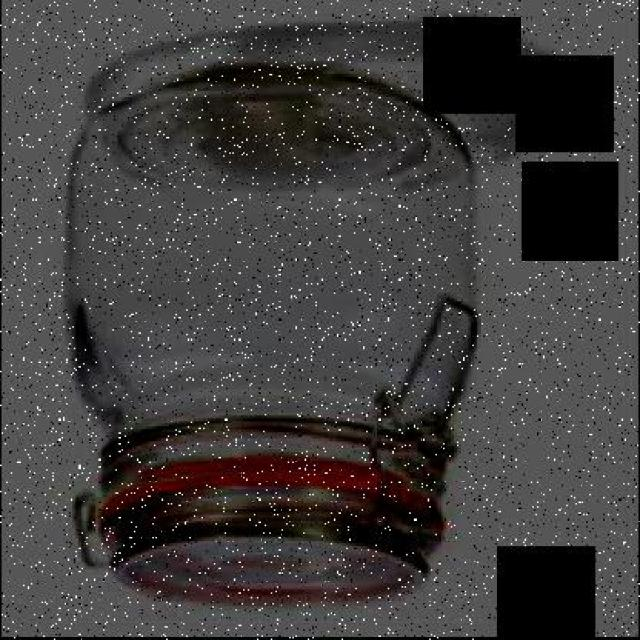glass: (57, 70, 480, 603)
